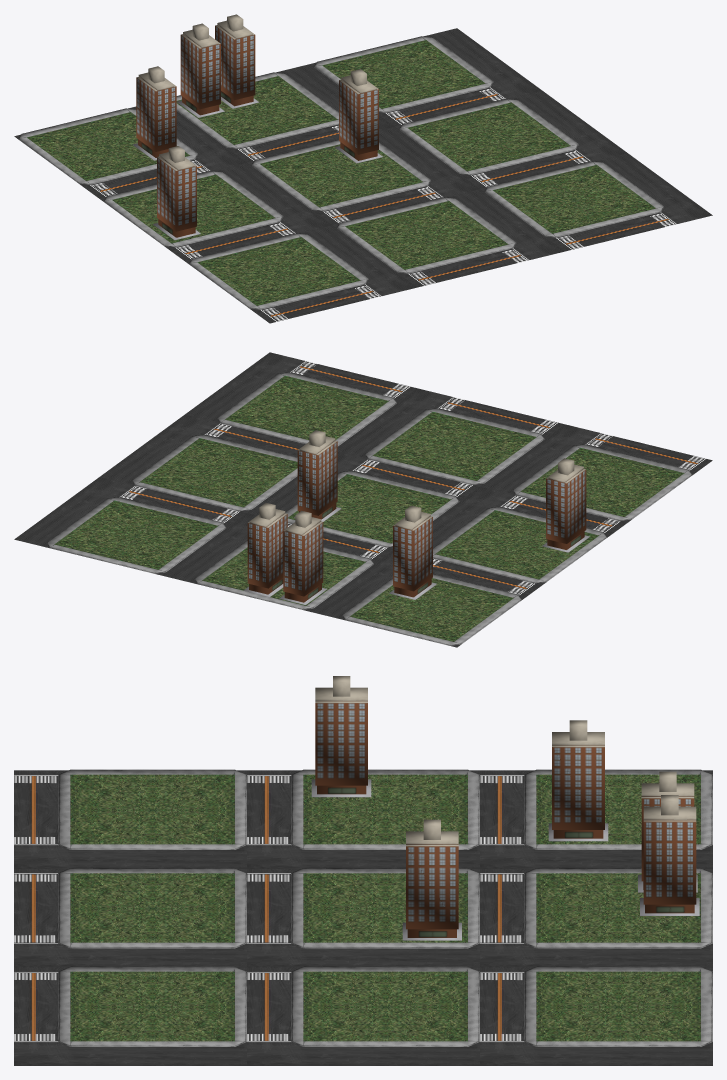
The model's file is SmallCity.fbx.
3 renders of one model, top to bottom at view 1: azimuth 30°, elevation 25°; view 2: azimuth 150°, elevation 25°; view 3: azimuth 270°, elevation 25°, orthographic. The views are drawn at different scales.
Parts seen in each view (by area): view 1: Mesh_001, Mesh_000, Mesh_005, GenericBlock1_002, Mesh_002, GenericBlock2_004, GenericBlock1_001, Mesh_046, GenericBlock2_006, Mesh_004, Mesh_075, Mesh_007 (+2 smaller); view 2: Mesh_002, Mesh_005, Mesh_001, GenericBlock1_002, Mesh_000, Mesh_046, GenericBlock1_001, GenericBlock2_004, GenericBlock2_006, Mesh_004, Mesh_007, Mesh_003 (+2 smaller); view 3: Mesh_002, Mesh_001, GenericBlock1_002, Mesh_005, Mesh_000, GenericBlock2_006, GenericBlock1_001, GenericBlock2_004, Mesh_046, Mesh_006, Mesh_007, Mesh_003 (+2 smaller).
Part boxes in pixels (x1,y1,x2,y2): Mesh_001: (480,153,712,251); Mesh_000: (185,225,417,323); Mesh_005: (332,189,564,287); GenericBlock1_002: (395,90,626,188); Mesh_002: (309,28,541,126); GenericBlock2_004: (247,126,479,224); GenericBlock1_001: (99,162,331,260); Mesh_046: (14,106,246,198); GenericBlock2_006: (176,64,394,162); Mesh_004: (177,23,224,117); Mesh_075: (335,69,382,163); Mesh_007: (153,146,200,240); Mesh_002: (14,477,246,575); Mesh_005: (337,388,564,486); Mesh_001: (185,352,416,446); GenericBlock1_002: (99,414,305,512); Mesh_000: (480,424,712,522); Mesh_046: (310,551,541,647); GenericBlock1_001: (433,487,627,585); GenericBlock2_004: (247,452,479,548); GenericBlock2_006: (162,513,392,611); Mesh_004: (279,510,327,604); Mesh_007: (542,458,589,552); Mesh_003: (389,505,436,599); Mesh_002: (480,966,712,1065); Mesh_001: (14,966,246,1065); GenericBlock1_002: (247,966,479,1065); Mesh_005: (14,868,246,967); Mesh_000: (14,769,246,868); GenericBlock2_006: (480,868,712,967); GenericBlock1_001: (247,769,479,868); GenericBlock2_004: (247,868,479,967); Mesh_046: (480,769,712,868); Mesh_006: (640,795,699,915); Mesh_007: (311,676,371,797); Mesh_003: (548,720,608,841).
Size of the model in its own units: 398 by 68.45 by 398.
